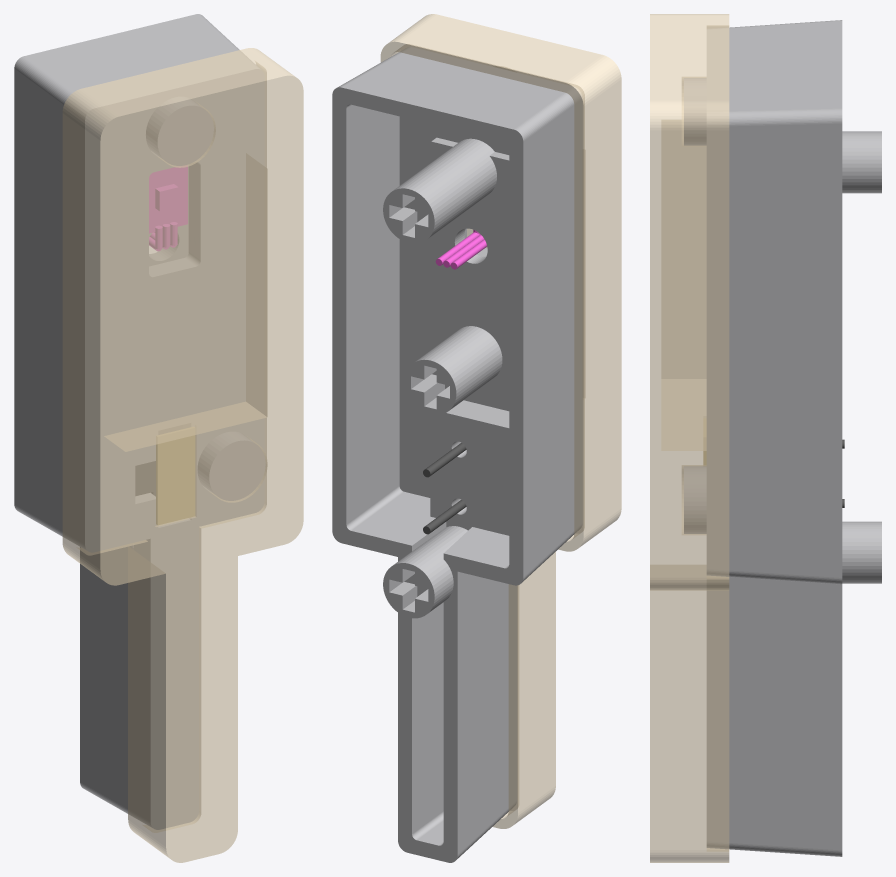
Rendered from key_assembled.glb.
The picture shows the model from 3 angles, left to right: view 1: azimuth 30°, elevation 25°; view 2: azimuth 150°, elevation 25°; view 3: azimuth 270°, elevation 25°; orthographic projection. The views are drawn at different scales.
Visible parts, largest first — view 1: 5_topper, 4_key, 5a_magnets_topper, 5b_short_plate, 4a_rgb_led_strip_piece, 4c_pogo_connector; view 2: 4_key, 5_topper, 4a_rgb_led_strip_piece, 4c_pogo_connector; view 3: 4_key, 5_topper, 5a_magnets_topper.
Part boxes in pixels (x1,y1,x2,y2): 5_topper: (62,48,303,862); 4_key: (14,14,264,829); 5a_magnets_topper: (147,98,265,500); 5b_short_plate: (156,435,194,524); 4a_rgb_led_strip_piece: (149,167,187,250); 4c_pogo_connector: (135,461,155,496); 4_key: (332,47,582,862); 5_topper: (380,14,621,828); 4a_rgb_led_strip_piece: (435,230,487,269); 4c_pogo_connector: (423,442,466,534); 4_key: (707,20,881,856); 5_topper: (650,14,729,862); 5a_magnets_topper: (684,78,706,533).
Size of the model in its own units: 21.62 by 77.5 by 20.5.
